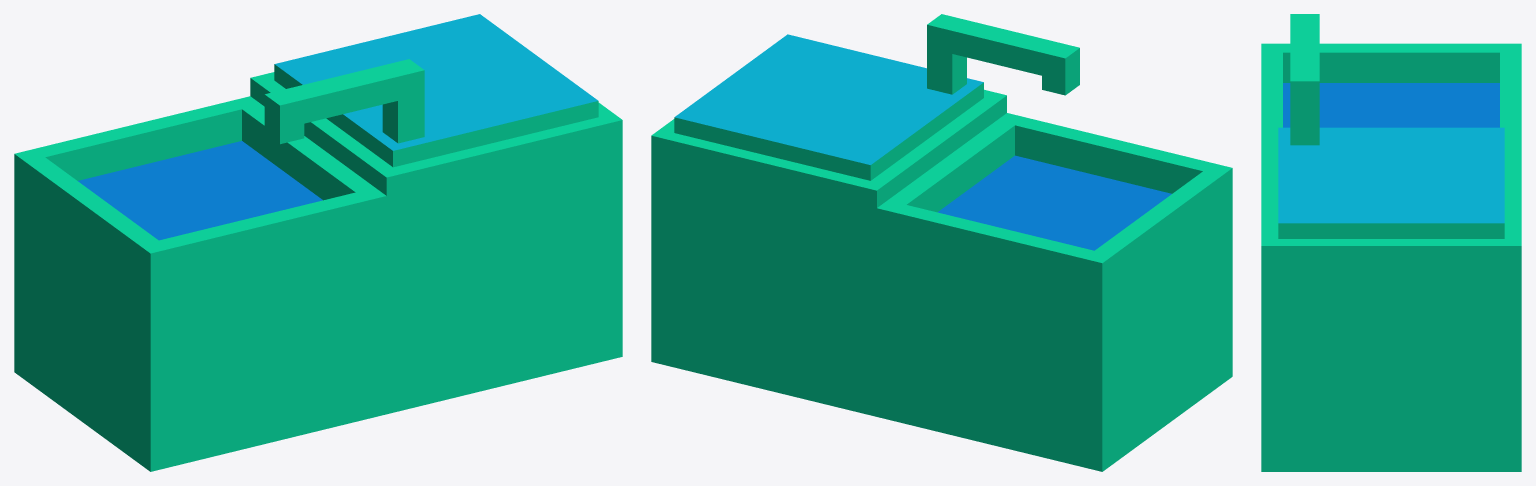
Rendered from waterArea.fbx.
3 renders of one model, left to right at view 1: azimuth 30°, elevation 25°; view 2: azimuth 150°, elevation 25°; view 3: azimuth 270°, elevation 25°, orthographic. The views are drawn at different scales.
Parts seen in each view (by area): view 1: Cube; view 2: Cube; view 3: Cube.
Part boxes in pixels (box(x1,y1,x2,y2)): Cube: box(14, 14, 622, 471); Cube: box(651, 14, 1232, 471); Cube: box(1261, 14, 1521, 471).
Bounding box in the file's own units: 4 × 2.73 × 2.
